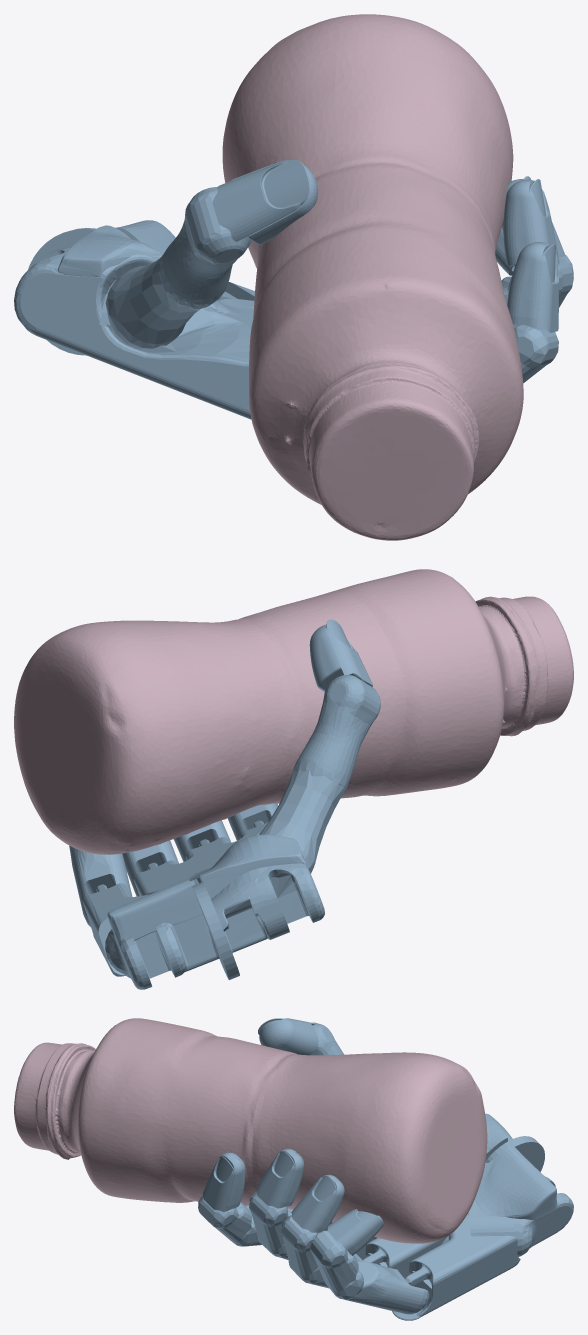
The picture shows the model from 3 angles, top to bottom: view 1: azimuth 30°, elevation 25°; view 2: azimuth 150°, elevation 25°; view 3: azimuth 270°, elevation 25°; orthographic projection. The views are drawn at different scales.
Parts seen in each view (by area): view 1: obj_mesh_grasp_15.obj, world; view 2: obj_mesh_grasp_15.obj, world; view 3: obj_mesh_grasp_15.obj, world.
Part boxes in pixels (x1,y1,x2,y2): obj_mesh_grasp_15.obj: (222, 14, 523, 540); world: (14, 160, 573, 419); obj_mesh_grasp_15.obj: (14, 569, 573, 854); world: (69, 619, 380, 989); obj_mesh_grasp_15.obj: (14, 1018, 487, 1243); world: (198, 1018, 573, 1320).
Bounding box in the file's own units: 0.1631 × 0.1314 × 0.2611.
